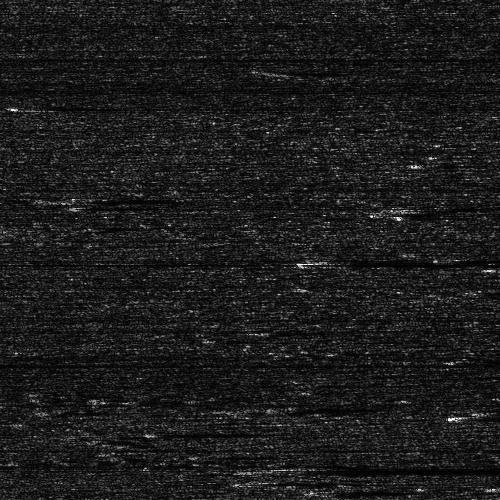rock: (283, 256, 376, 267), (368, 204, 431, 217), (423, 411, 500, 420), (320, 493, 393, 500), (38, 195, 111, 202), (0, 103, 68, 110), (243, 67, 296, 72), (135, 429, 166, 434), (70, 204, 101, 207), (292, 465, 323, 468), (226, 478, 237, 483)
shadow: (330, 256, 500, 267), (400, 204, 500, 217), (75, 195, 221, 202), (357, 493, 500, 500), (27, 103, 135, 110), (0, 358, 60, 369), (270, 67, 390, 72), (308, 465, 500, 468), (151, 429, 266, 434), (232, 478, 314, 483), (0, 493, 44, 500), (0, 85, 37, 92), (0, 498, 118, 500), (86, 204, 159, 207), (476, 411, 500, 420)
